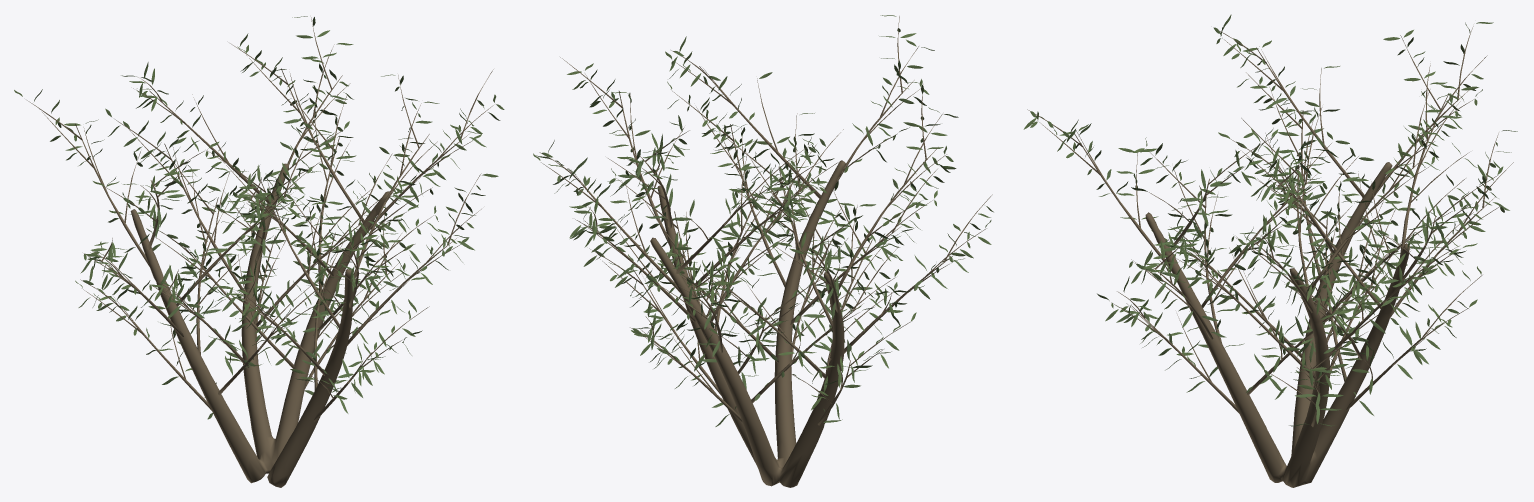
File: Filaire_0_Niveau0.fbx
3 views of the same model, side by side, from view 1: azimuth 30°, elevation 25°; view 2: azimuth 150°, elevation 25°; view 3: azimuth 270°, elevation 25° (orthographic). The views are drawn at different scales.
Visible parts, largest first — view 1: Filaire_0_Niveau0; view 2: Filaire_0_Niveau0; view 3: Filaire_0_Niveau0.
Part boxes in pixels (x1=…): Filaire_0_Niveau0: x1=14, y1=16, x2=504, y2=487; Filaire_0_Niveau0: x1=533, y1=15, x2=993, y2=487; Filaire_0_Niveau0: x1=1023, y1=14, x2=1517, y2=487.
Bounding box in the file's own units: 120 × 109 × 119.
